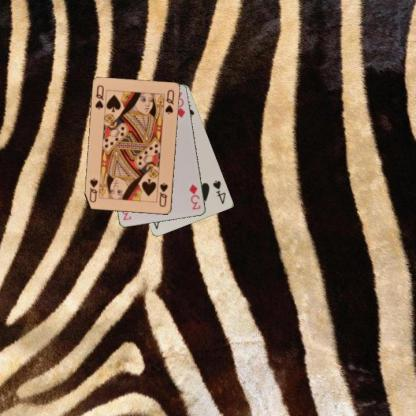3d: (186, 182, 202, 211)
4s: (210, 178, 227, 206)
Qs: (157, 180, 169, 209), (93, 83, 105, 111)
